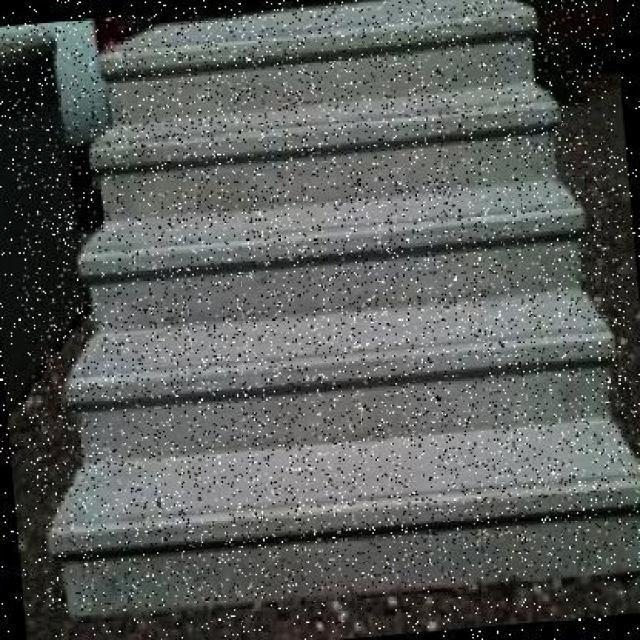Stairs: (40, 18, 631, 604)
